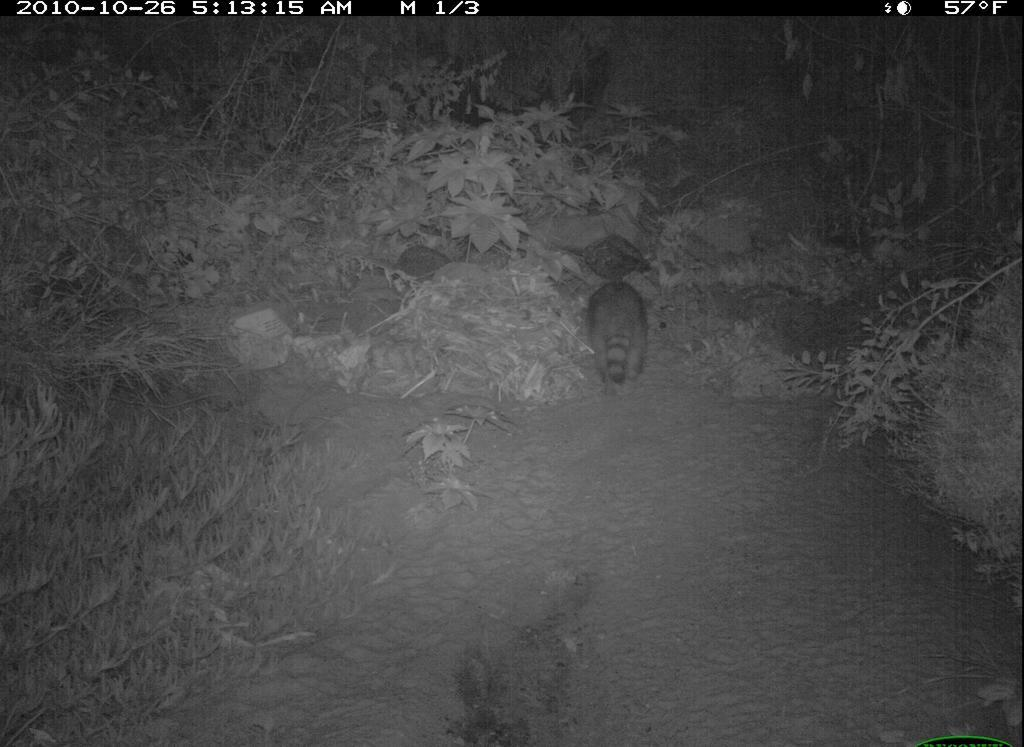raccoon: (570, 262, 657, 396)
